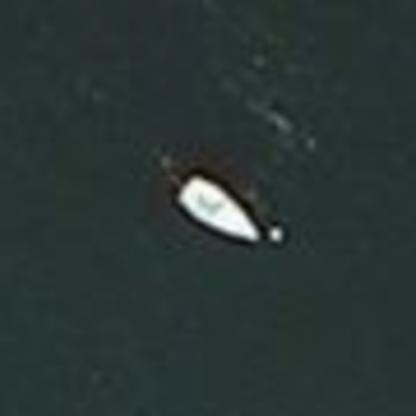ship: (161, 161, 292, 260)
